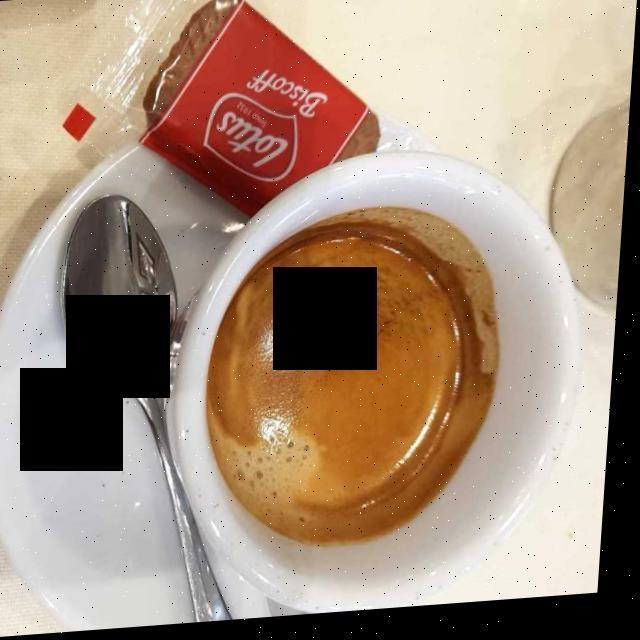risotto: (222, 218, 504, 547)
